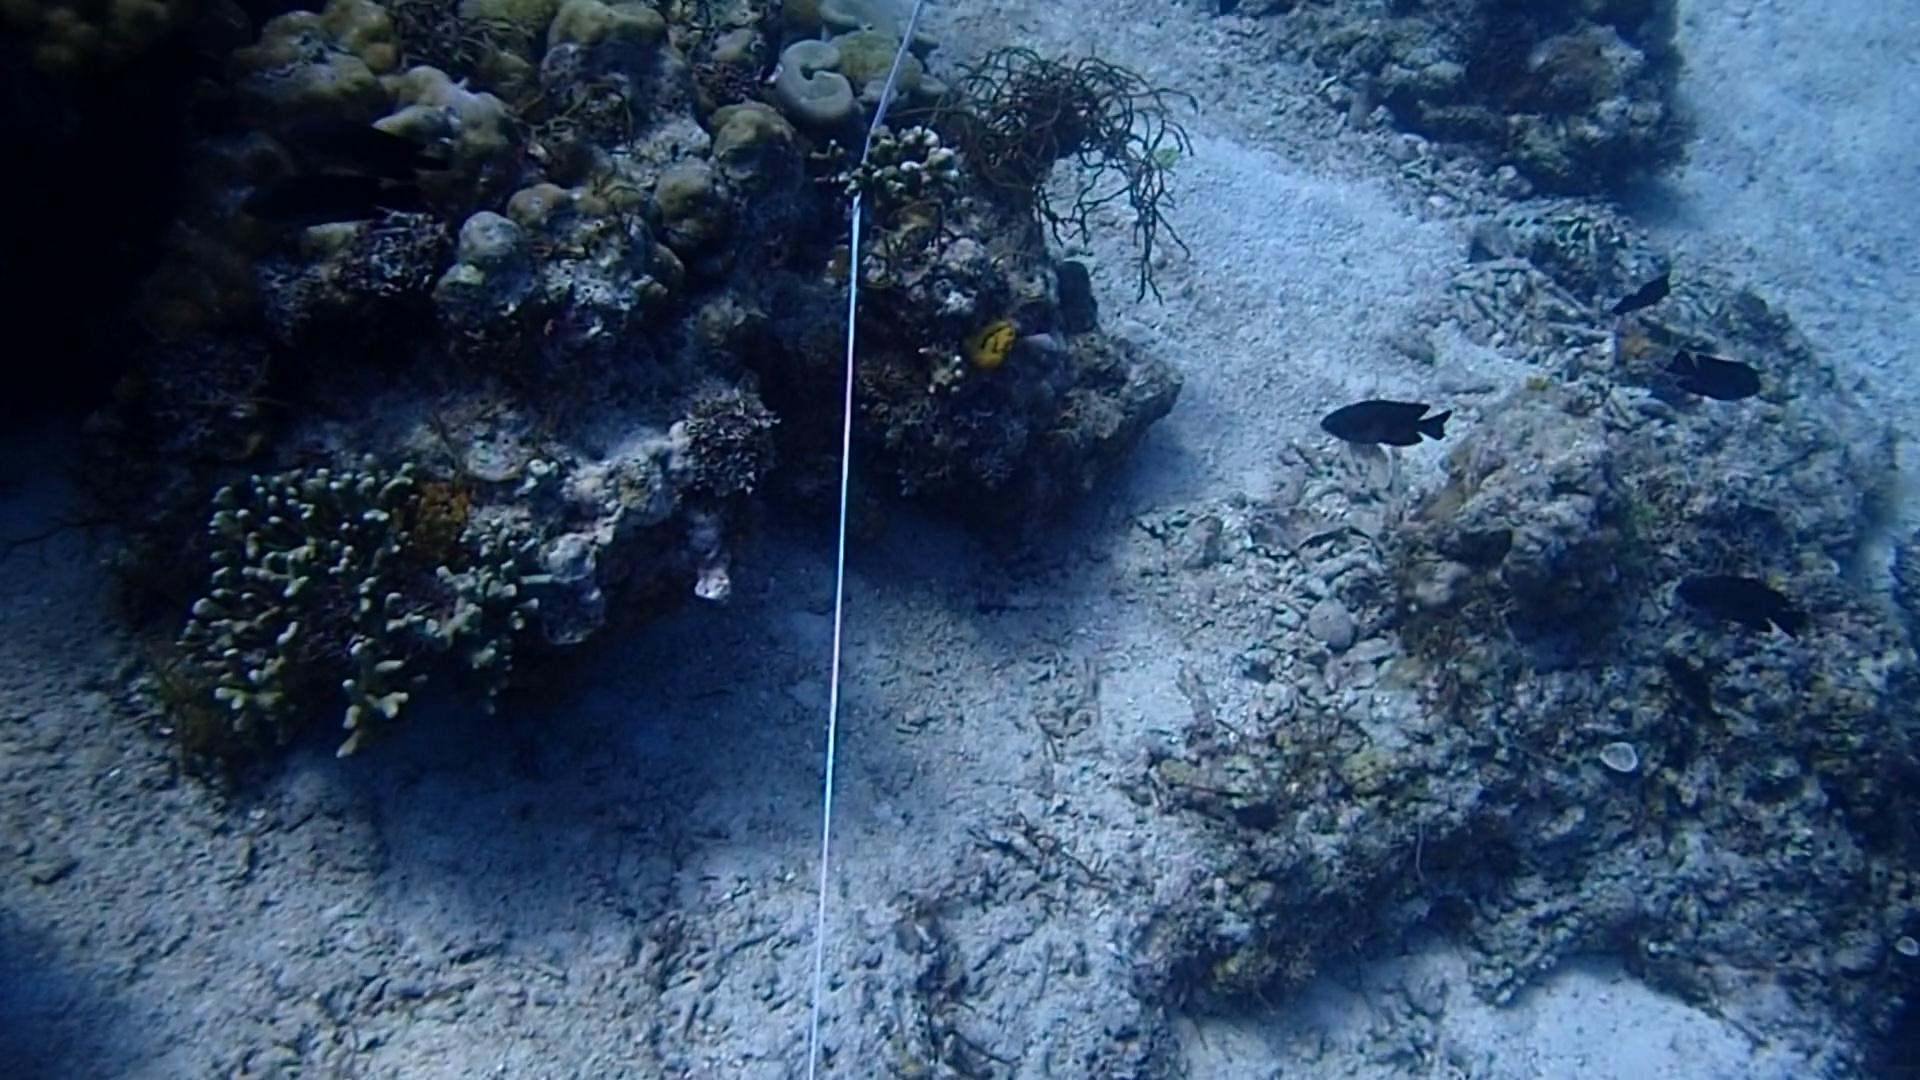Dark Fish: (1646, 567, 1817, 641), (1307, 392, 1461, 462), (1638, 638, 1742, 731), (1660, 328, 1768, 411), (1602, 258, 1681, 326)
